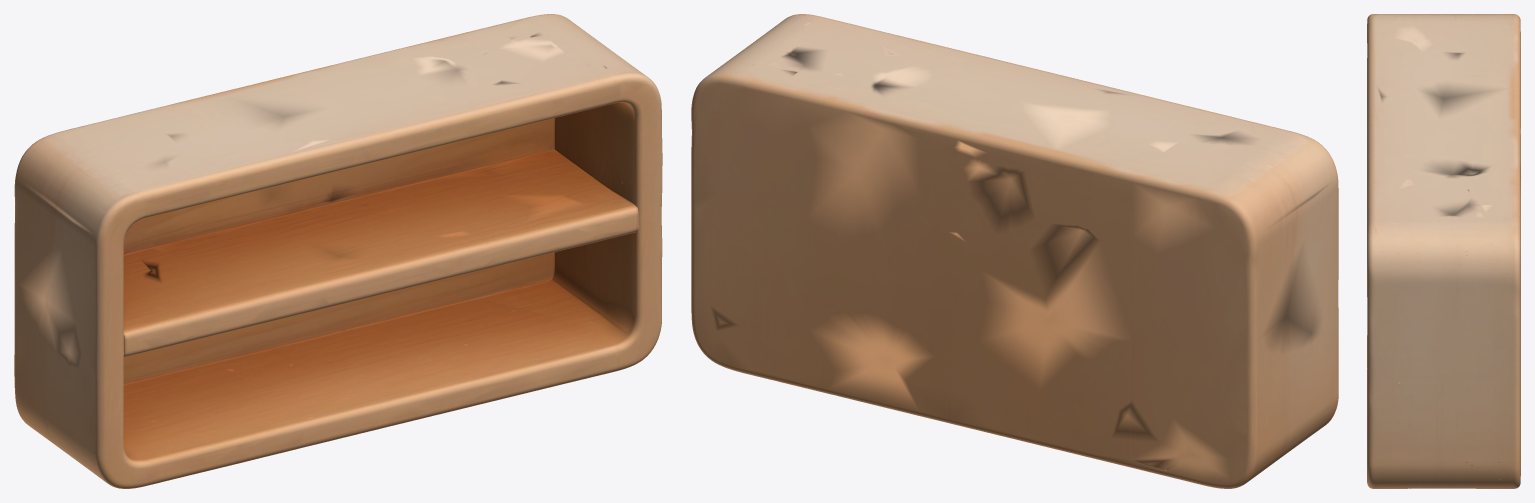
The model's file is plant.glb.
The picture shows the model from 3 angles, left to right: view 1: azimuth 30°, elevation 25°; view 2: azimuth 150°, elevation 25°; view 3: azimuth 270°, elevation 25°; orthographic projection. The views are drawn at different scales.
Visible parts, largest first — view 1: node_0; view 2: node_0; view 3: node_0.
Part boxes in pixels (x1=…): node_0: x1=14, y1=14, x2=662, y2=488; node_0: x1=691, y1=14, x2=1338, y2=488; node_0: x1=1367, y1=14, x2=1520, y2=488.
Size of the model in its own units: 1.09 by 0.5463 by 0.2932.
Materials: 1 (1 with a texture image).
